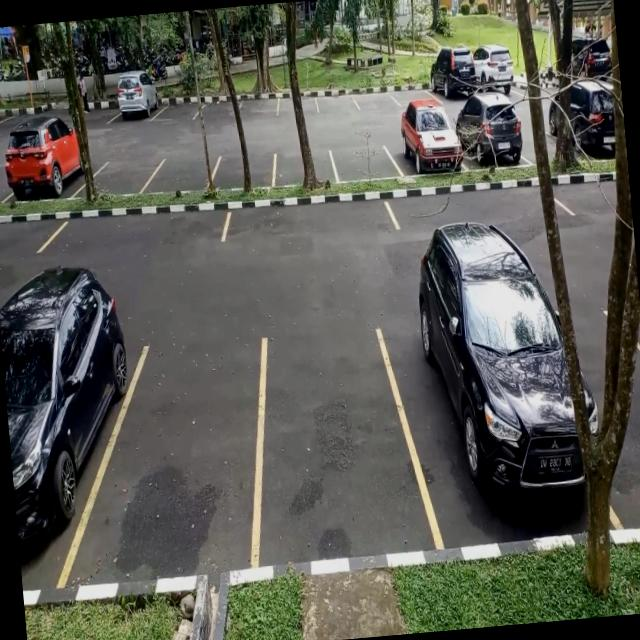car: (400, 288, 590, 548), (0, 313, 135, 589), (3, 120, 88, 206), (394, 106, 466, 174), (114, 78, 160, 124)
free: (252, 307, 420, 561), (116, 325, 275, 574), (50, 200, 228, 258), (225, 192, 396, 242), (328, 136, 399, 181), (147, 152, 215, 195), (272, 146, 334, 186), (88, 156, 150, 196), (214, 154, 276, 192), (157, 88, 200, 121), (275, 88, 319, 119), (355, 83, 399, 112), (314, 86, 358, 114), (238, 90, 280, 119)
